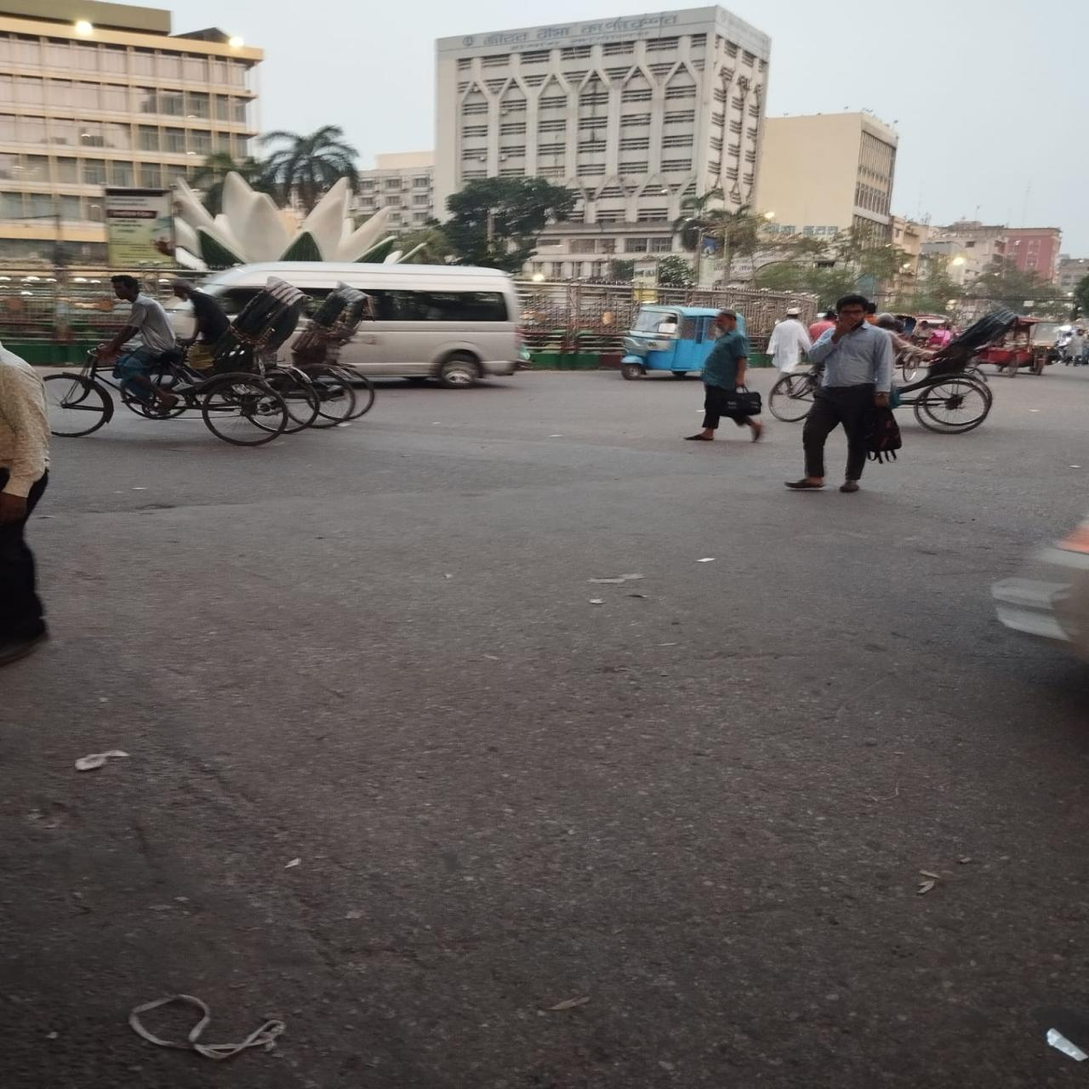person: (787, 295, 894, 494), (0, 345, 46, 657), (689, 306, 764, 445), (769, 307, 809, 376), (1070, 328, 1086, 367)
